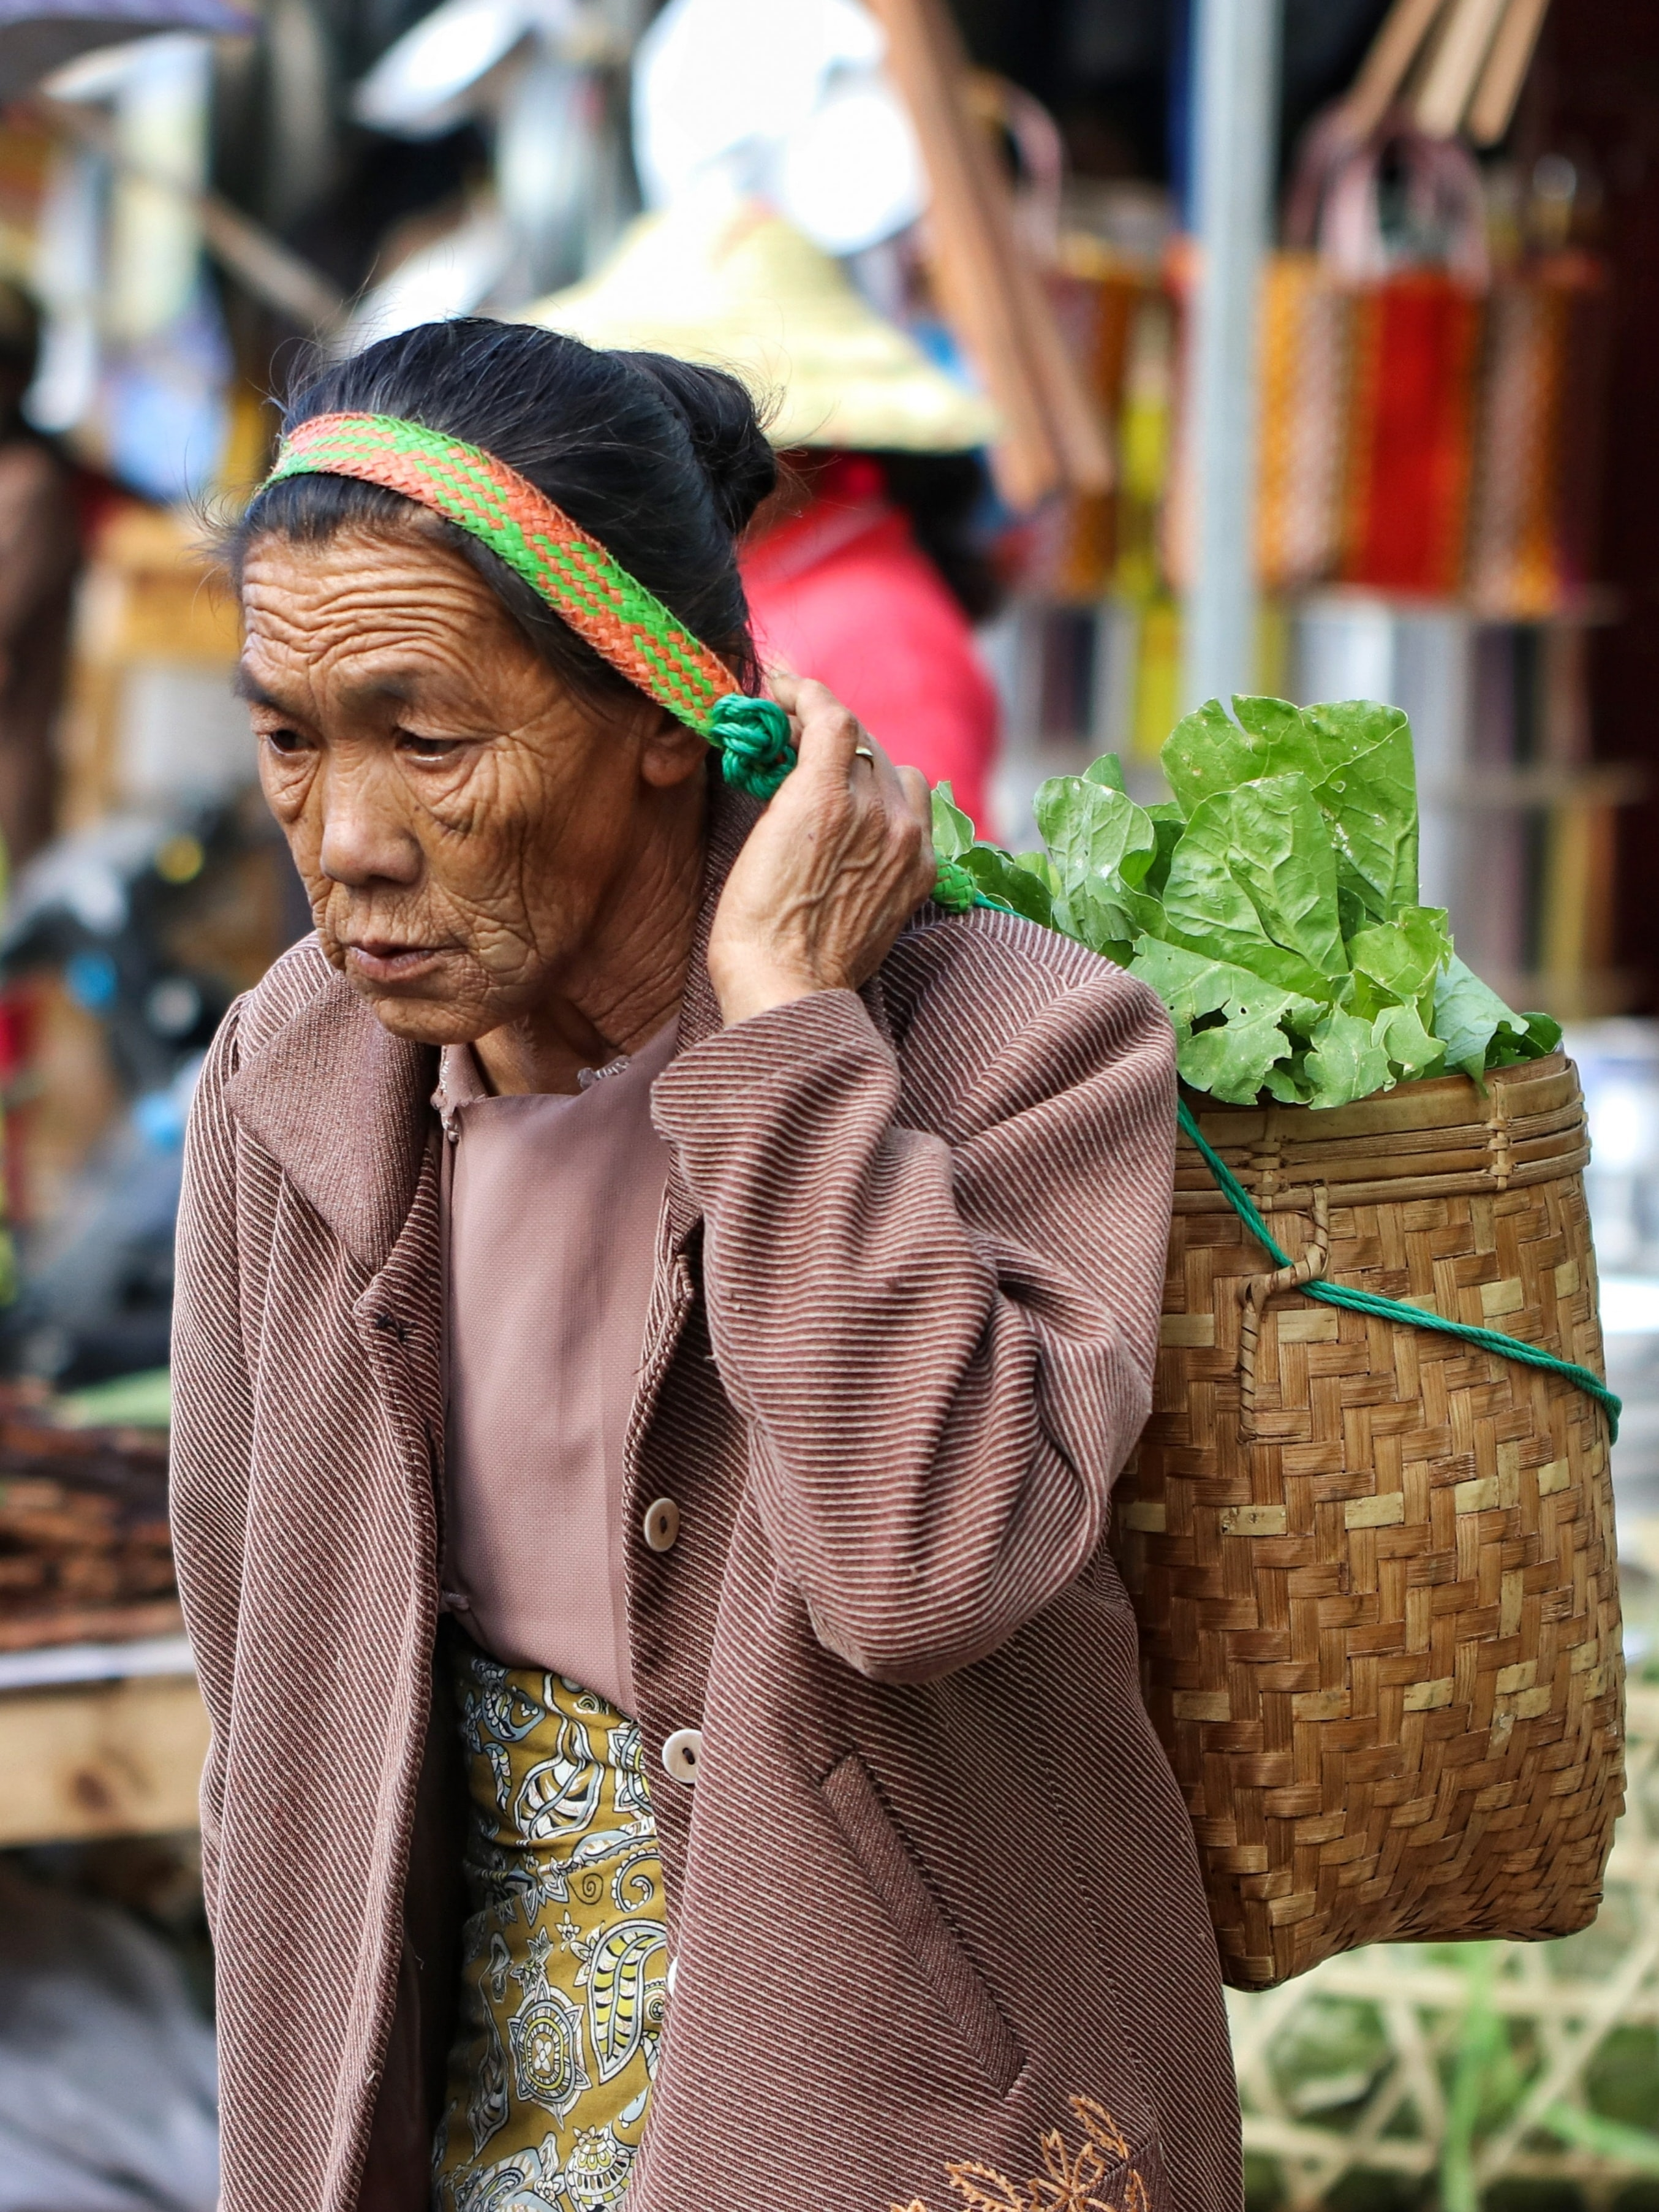WRINKLES: (247, 591, 472, 654), (457, 899, 540, 971), (413, 786, 505, 842), (502, 720, 556, 767), (314, 885, 361, 927)
